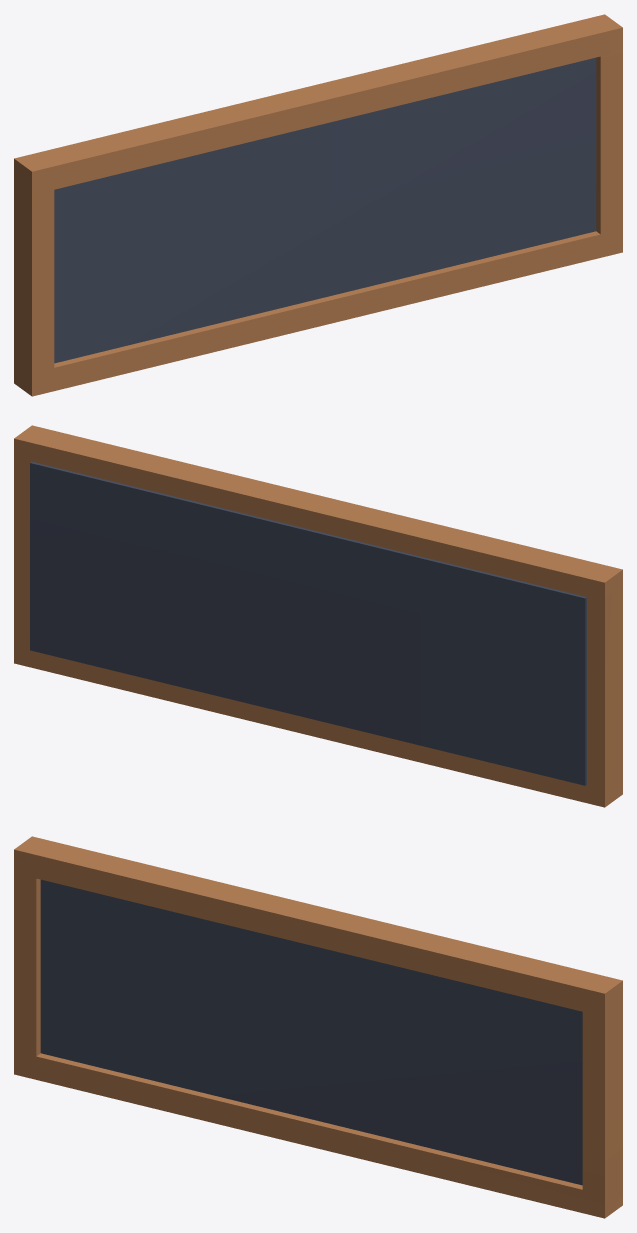
File: bay_sign.glb
The picture shows the model from 3 angles, top to bottom: view 1: azimuth 30°, elevation 25°; view 2: azimuth 150°, elevation 25°; view 3: azimuth 330°, elevation 25°; orthographic projection.
Parts seen in each view (by area): view 1: sign; view 2: sign; view 3: sign.
Part boxes in pixels (x1=…): sign: x1=14, y1=14, x2=622, y2=396; sign: x1=14, y1=425, x2=622, y2=807; sign: x1=14, y1=836, x2=622, y2=1218.
Bounding box in the file's own units: 1.32 × 0.48 × 0.077.
